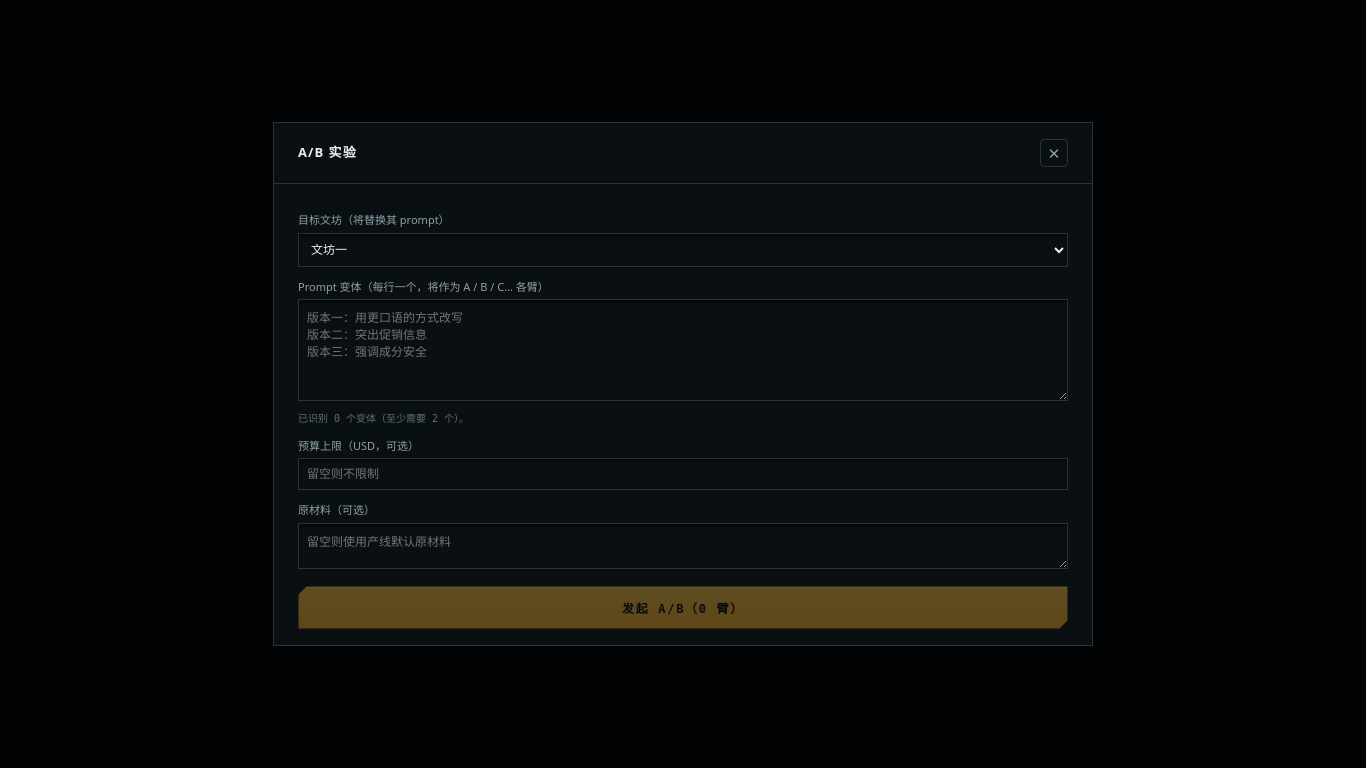
Test case: ABDialog › Prompt 变体 › 只有 1 个变体时提示至少需要 2 个
Type "只有一个变体" into the text box with placeholder "版本一：用更口语的方式改写 版本二：突出促销信息 版本三：强调成分安全" at (683, 350), box [298, 299, 1068, 401]
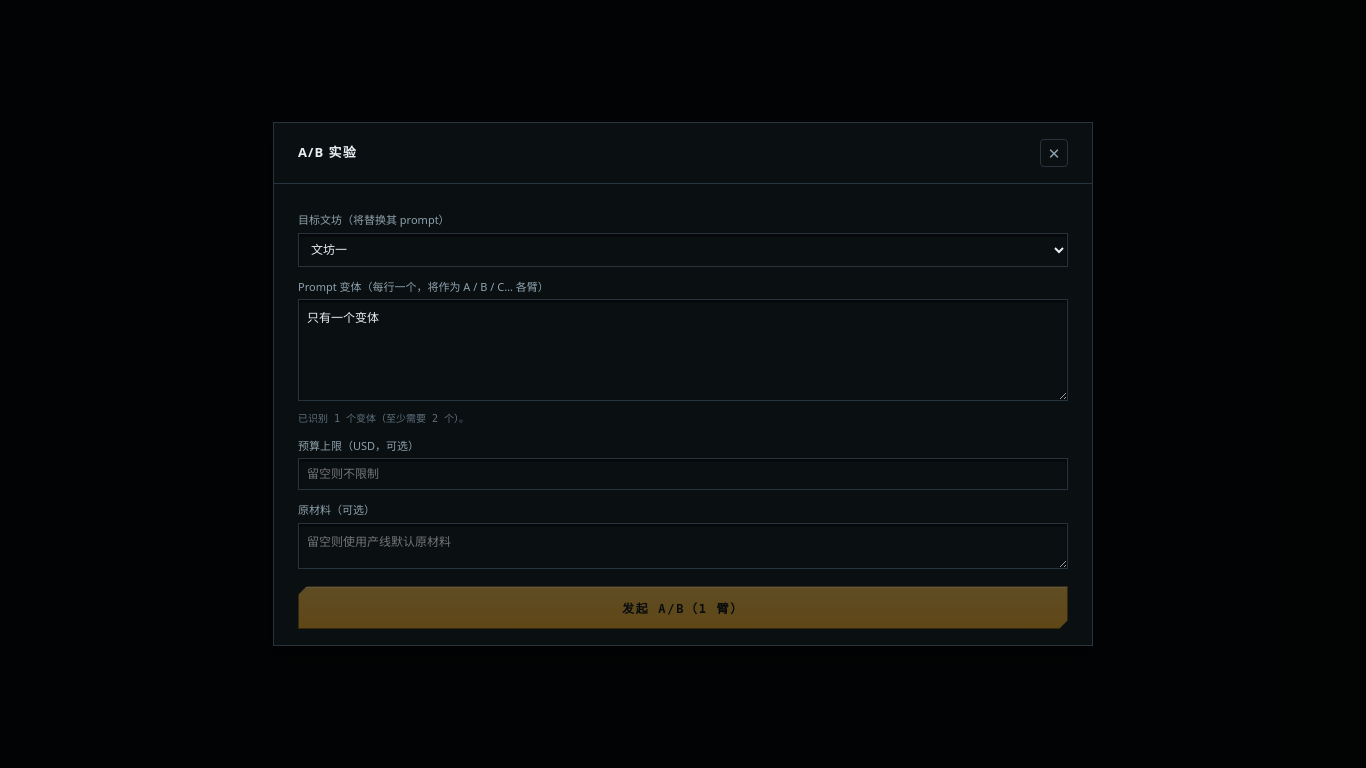
Now the text "已识别 1 个变体（至少需要 2 个）。" is shown, box [298, 412, 469, 424]
